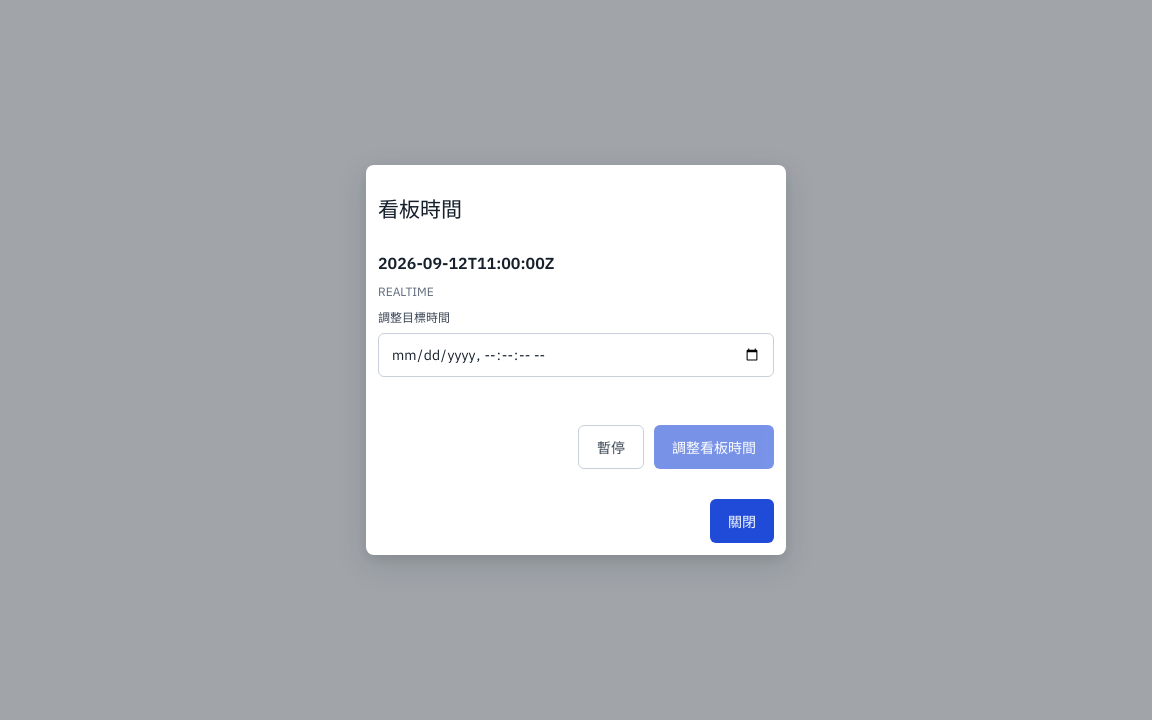
Test: s-board-clock-control › uc-adjust-board-clock 失敗時顯示訊息，看板時間顯示不變
Expected: the text "2026-09-12T11:00:00Z" is shown, [378,253,554,273]
Type "2026-09-12T13:00:00" into the field labelled "調整目標時間". click: [576, 355]
box: [378,333,774,377]
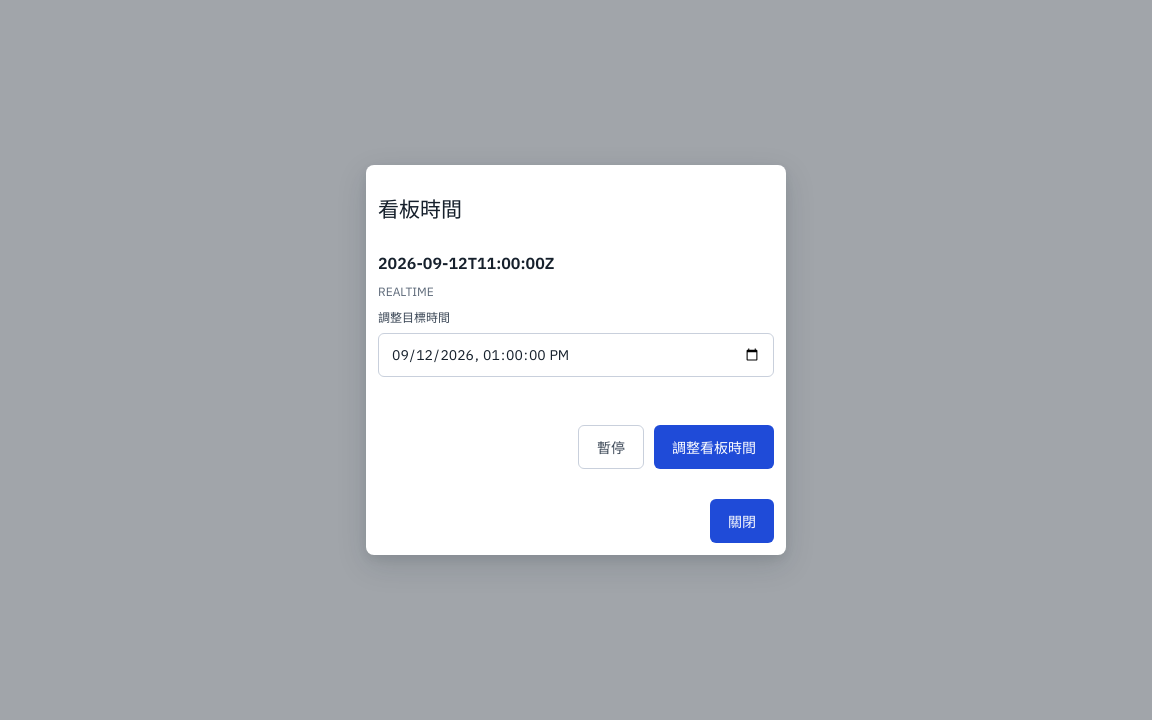
Click the button "調整看板時間". click: [714, 447]
box: [654,425,774,469]
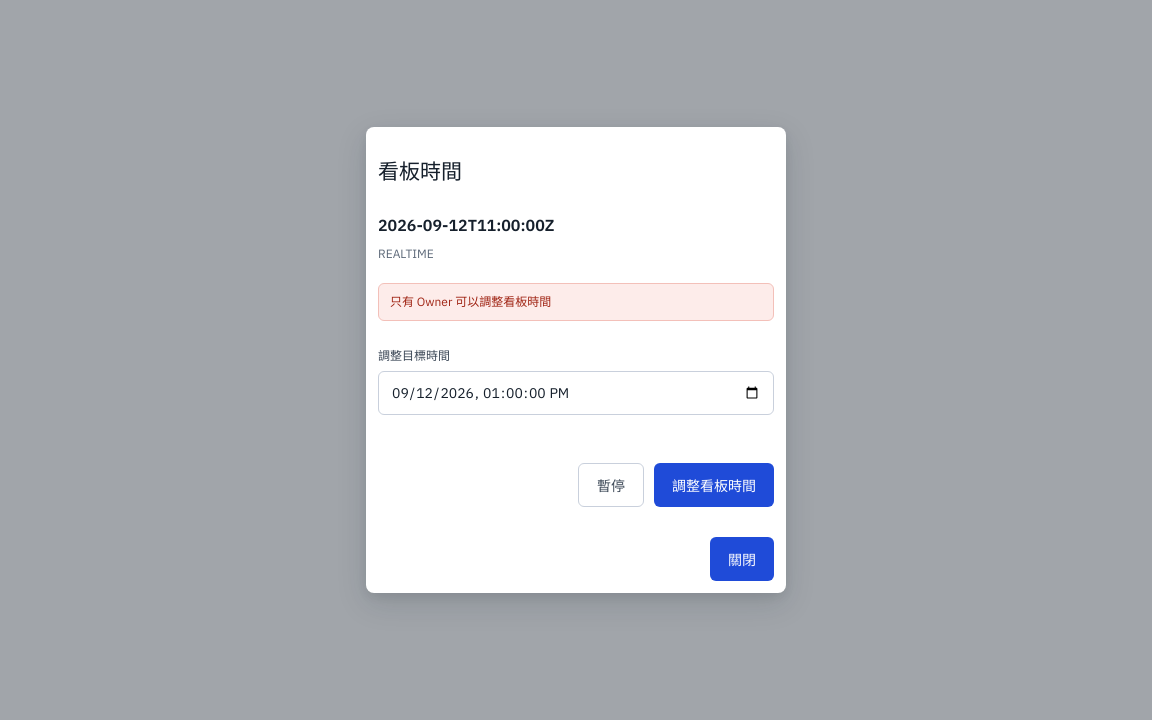
Expected: the text with test id "clock-control-time" reads "2026-09-12T11:00:00Z", [378,215,554,235]
Expected: the message reads "只有 Owner 可以調整看板時間", [390,294,551,309]
